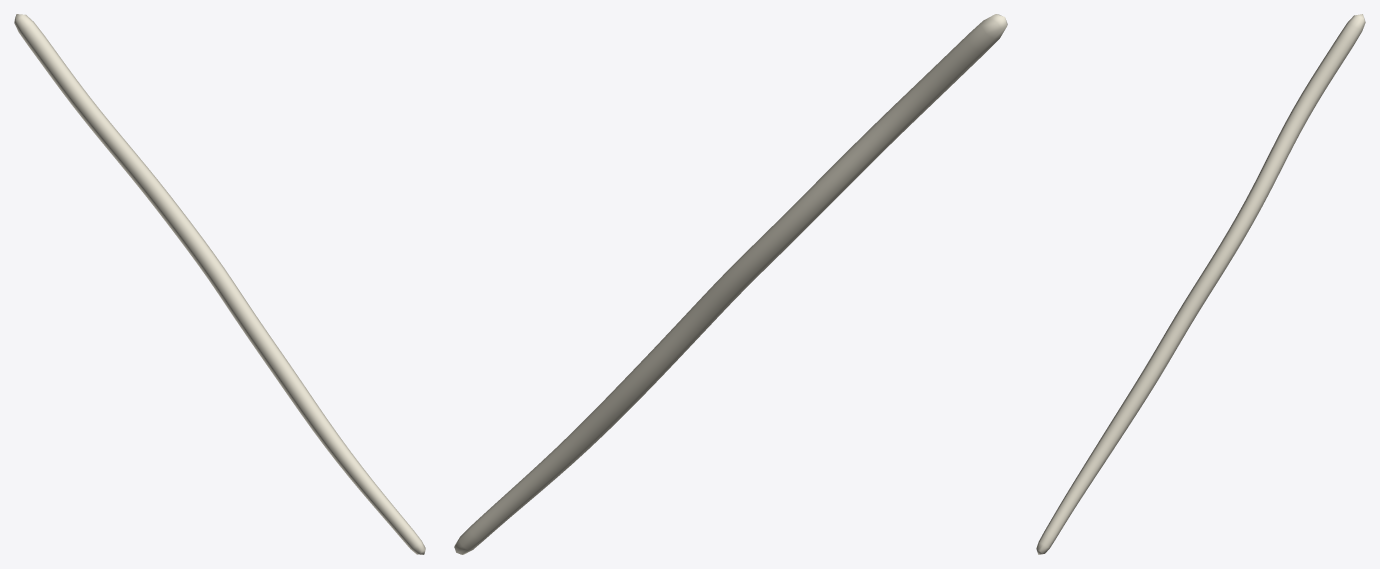
3 views of the same model, side by side, from view 1: azimuth 30°, elevation 25°; view 2: azimuth 210°, elevation 25°; view 3: azimuth 270°, elevation 25° (orthographic). The views are drawn at different scales.
Visible parts, largest first — view 1: ZA_7e3af84e7d1d8089; view 2: ZA_7e3af84e7d1d8089; view 3: ZA_7e3af84e7d1d8089.
Boxes of the visible parts, x1=… form: ZA_7e3af84e7d1d8089: x1=14, y1=14, x2=425, y2=554; ZA_7e3af84e7d1d8089: x1=454, y1=14, x2=1007, y2=554; ZA_7e3af84e7d1d8089: x1=1036, y1=14, x2=1365, y2=554.
Bounding box in the file's own units: 0.0249 × 0.047 × 0.0321.
